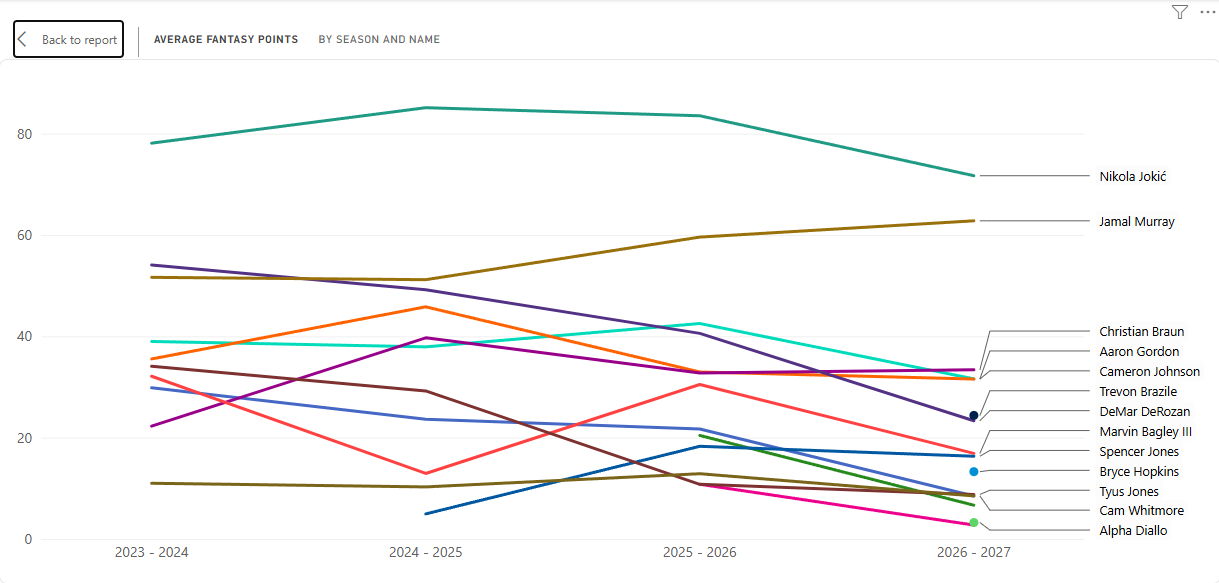

The dashboard page shown, as its layout file describes it:
{"tool":"powerbi","page":{"name":"Players over years","canvas":[1920,1080],"ordinal":1},"visuals":[{"type":"lineChart","fields":{"Category":["nba_2025_26_player_game_stats.Season"],"Series":["nba_2025_26_player_game_stats.Name Cleaned"],"Y":["Avg(nba_2025_26_player_game_stats.Fantasy Points)"]},"box":[0,0,1497.4,1035.3],"z":0},{"type":"slicer","fields":{"Values":["nba_2025_26_player_game_stats.Current Team"]},"box":[1508.6,0,411.4,297.6],"z":1000}]}

Visuals, with their boxes on the page's 1920x1080 design canvas (x1, y1, x2, y2). These are canvas units, not pixel positions in the 1219x583 screenshot, which may show the page scaled, cropped or inside an application window:
lineChart - nba_2025_26_player_game_stats.Season x nba_2025_26_player_game_stats.Name Cleaned: pyautogui.locateOnScreen(0, 0, 1497, 1035)
slicer - nba_2025_26_player_game_stats.Current Team: pyautogui.locateOnScreen(1509, 0, 1920, 298)
